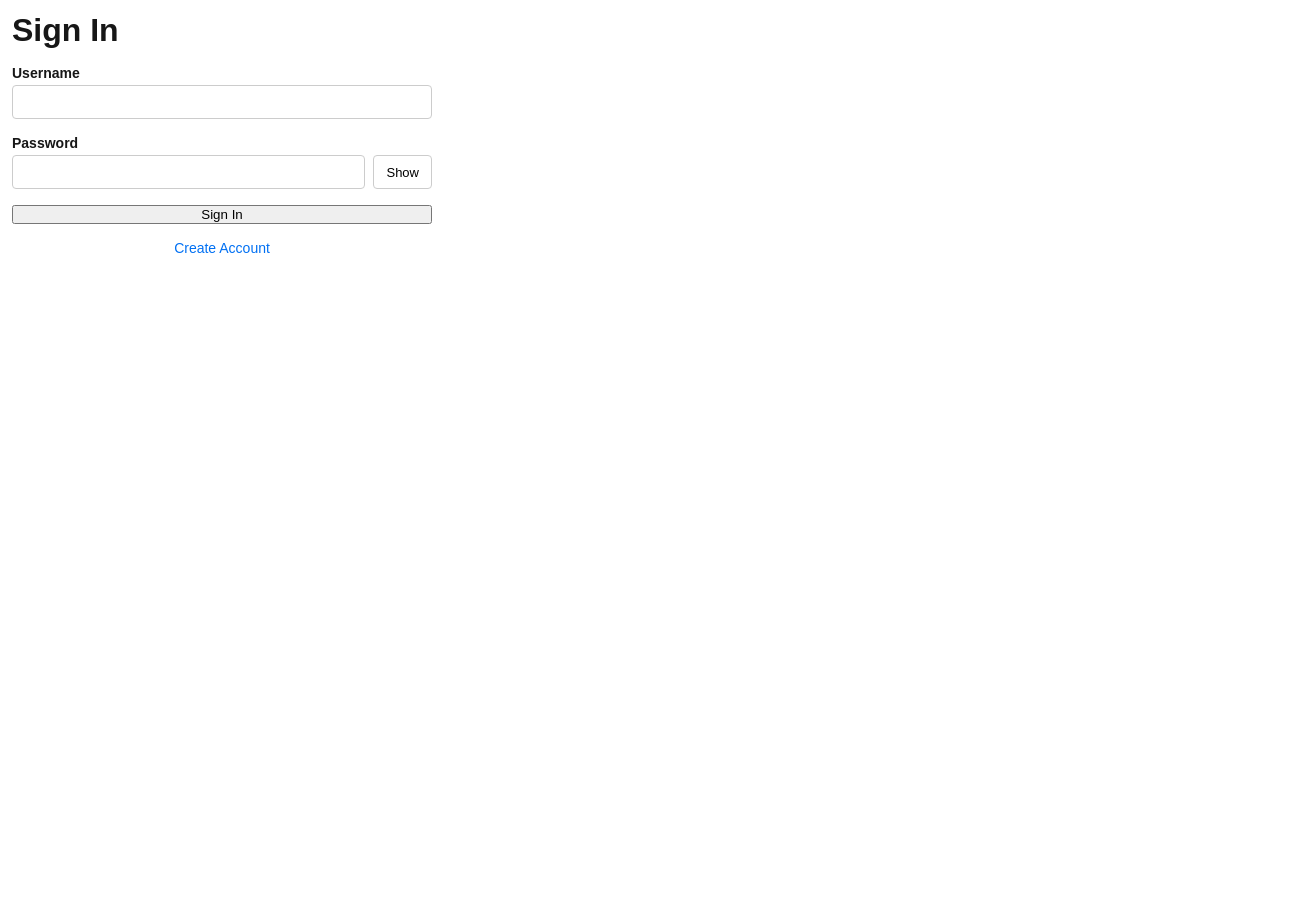
Test: AuthForm - sign in mode › shows a toast for unexpected server errors
Type "janedoe1" into the field labelled "Username" at [222, 102], box [12,85,432,119]
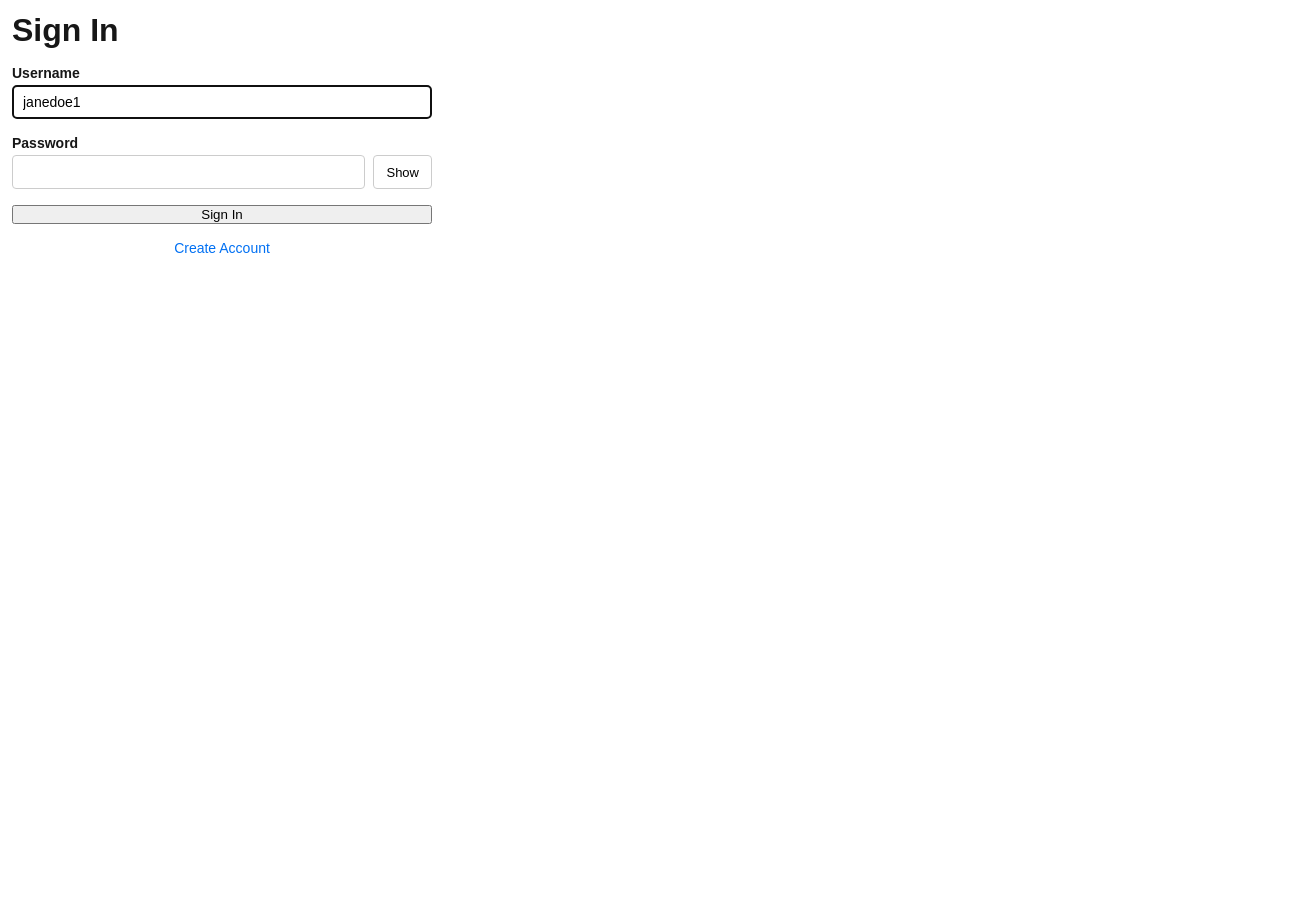
Type "sup3rSecret!" into the password field labelled "Password" at [189, 172], box [12,155,366,189]
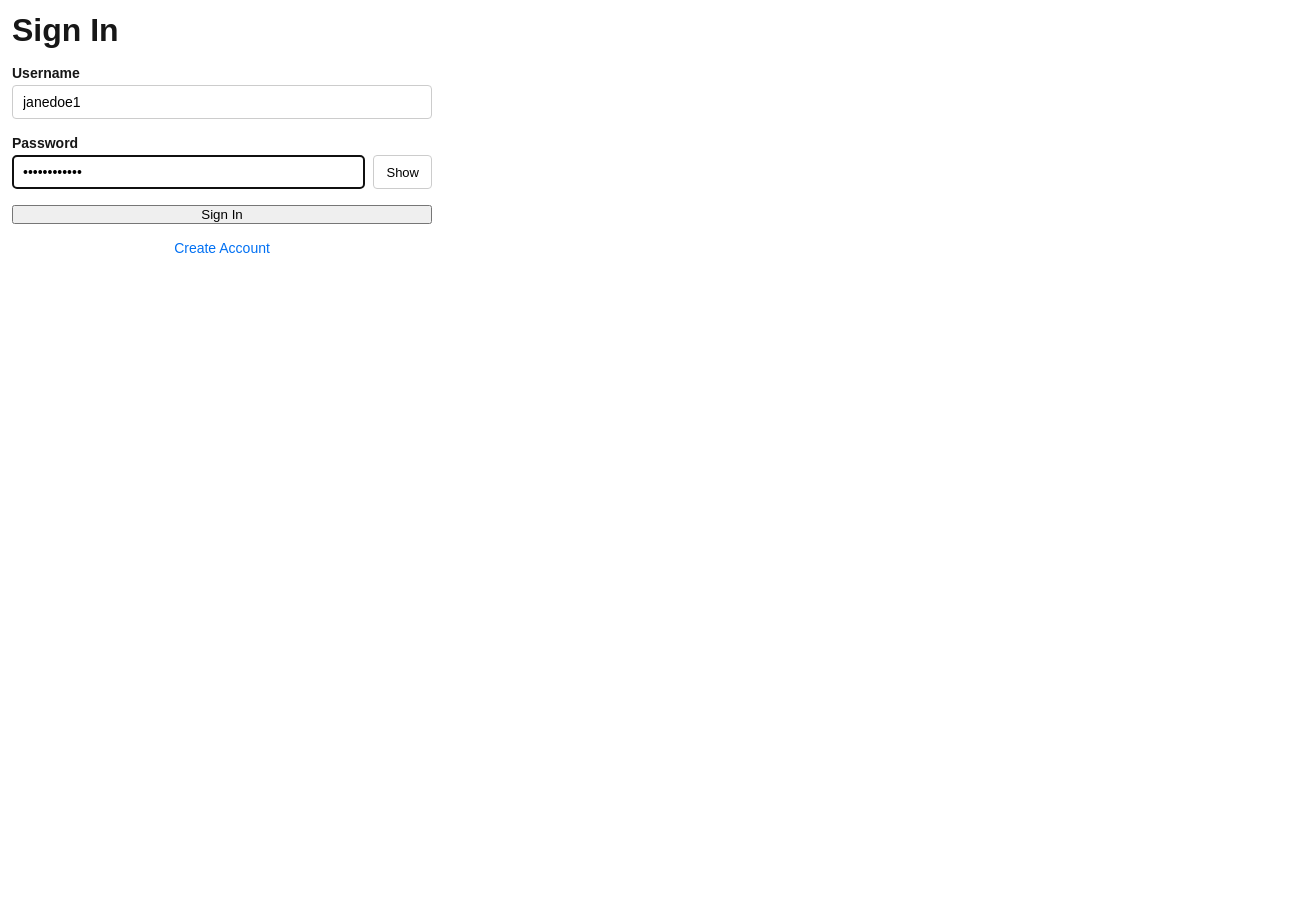
Click the button "Sign In" at [222, 214], box [12,205,432,224]
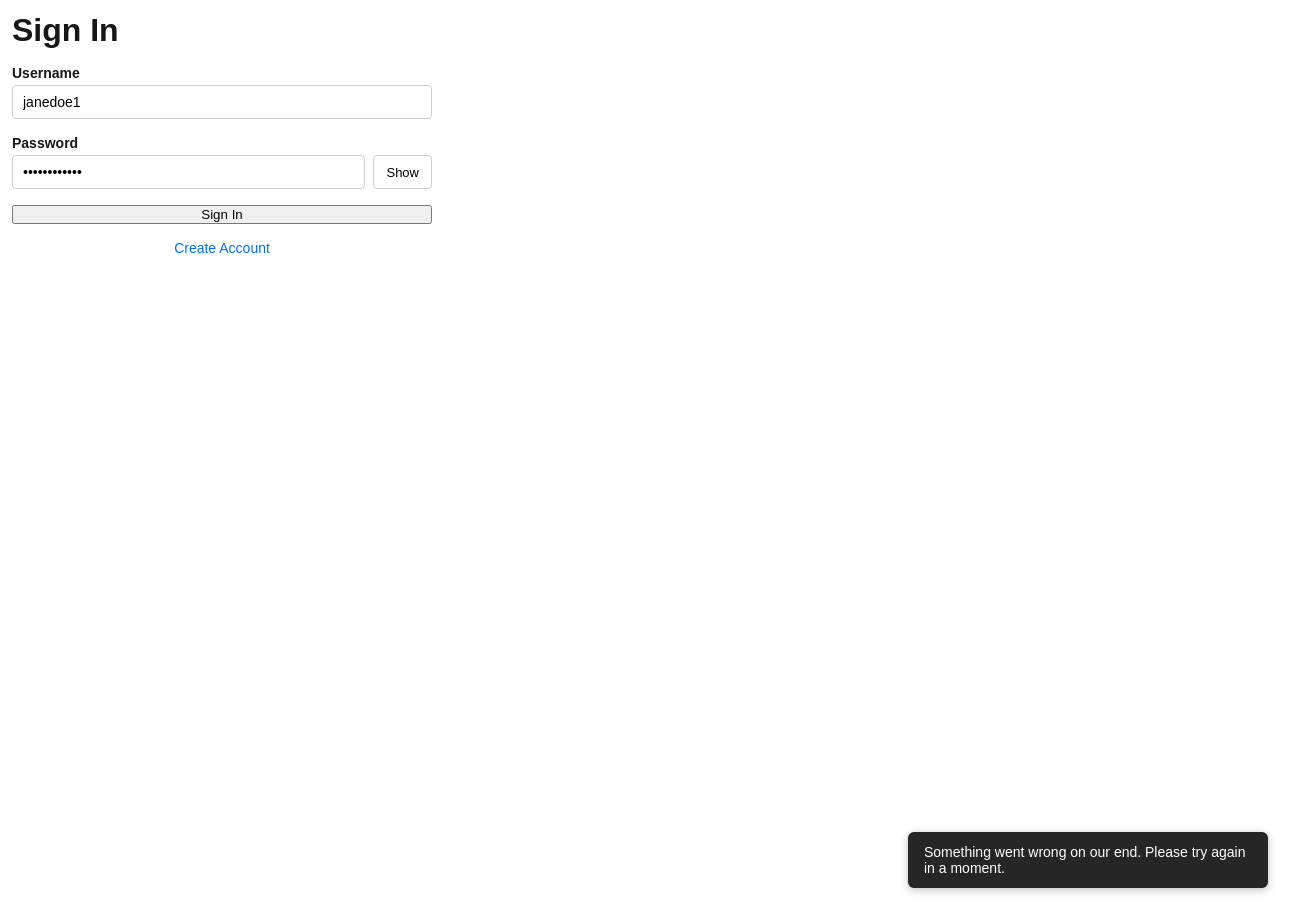
Expected: the text "Something went wrong on our end. Please try again in a moment." is shown, [908,832,1268,888]
